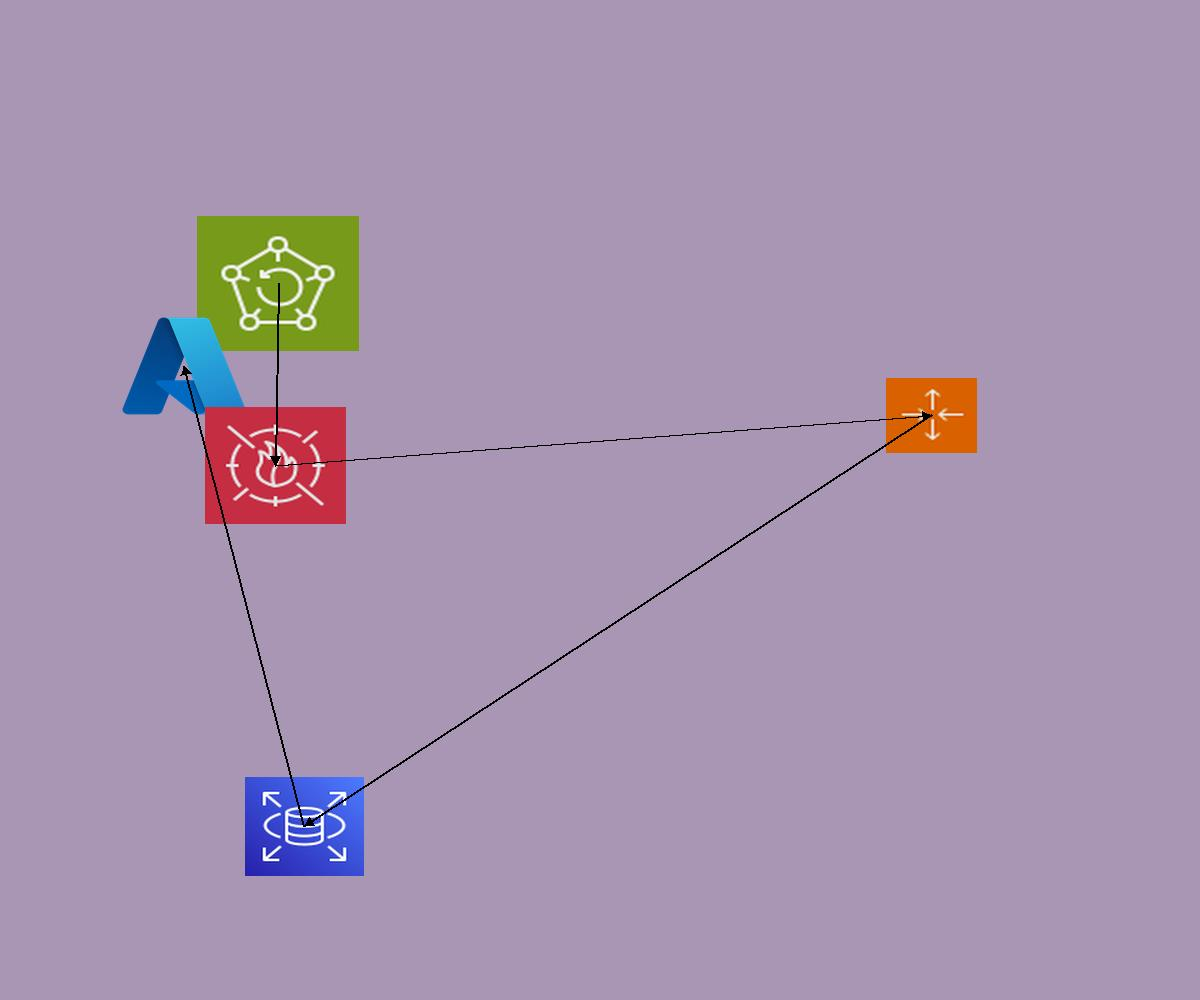AWS-Backup: (197, 216, 359, 351)
AWS-RDS: (245, 777, 364, 876)
AWS-Scaling-group: (886, 378, 977, 453)
AWS-WAF: (205, 407, 346, 524)
Azure_services: (117, 310, 251, 422)
